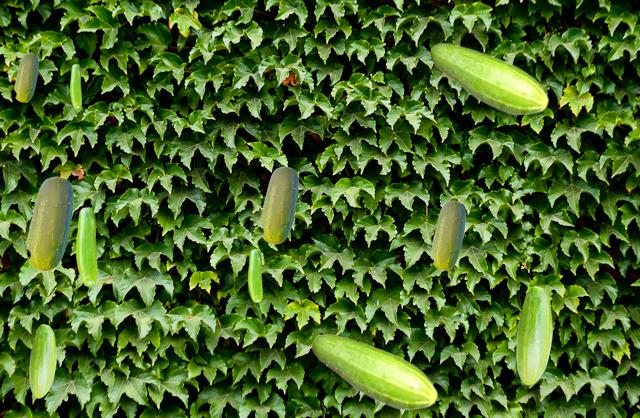cucumber: (311, 333, 437, 410), (429, 42, 548, 115), (26, 176, 72, 270), (516, 286, 551, 384), (260, 166, 297, 243), (431, 200, 464, 269), (29, 324, 55, 397), (76, 207, 96, 284), (14, 53, 37, 101), (248, 249, 261, 301), (70, 64, 80, 107)
